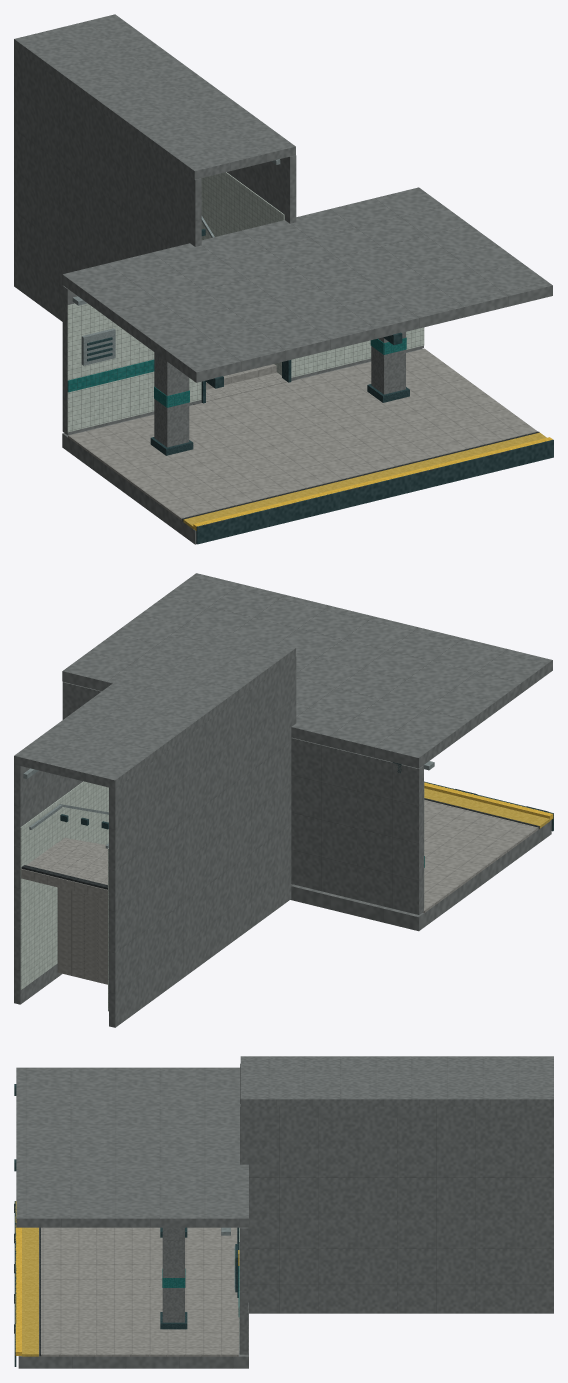
The model's file is PZ_MetroStation_Platform_10m_StairAccess.glb.
3 renders of one model, top to bottom at view 1: azimuth 30°, elevation 25°; view 2: azimuth 150°, elevation 25°; view 3: azimuth 270°, elevation 25°, orthographic. The views are drawn at different scales.
Parts seen in each view (by area): view 1: PZ_STAIRS_10M__StructuralShell__ceiling_slab, PZ_STAIRS_10M__FloorFinish__terrazzo_finish_10m, PZ_STAIRS_10M__StairStructure__stairwell_left_wall, PZ_STAIRS_10M__StairStructure__stairwell_ceiling, PZ_STAIRS_10M__WallFinish__rear_wall_tile_left, PZ_STAIRS_10M__SafetyEdge__edge_skirt, PZ_STAIRS_10M__StairFinishes__stairwell_right_tiles, PZ_STAIRS_10M__SafetyEdge__tactile_strip_10m, PZ_STAIRS_10M__StairStructure__stairwell_right_wall, PZ_STAIRS_10M__Pillars__pillar_A_core, PZ_STAIRS_10M__StructuralShell__slab_10m, PZ_STAIRS_10M__WallFinish__rear_wall_tile_right (+7 smaller); view 2: PZ_STAIRS_10M__StairStructure__stairwell_left_wall, PZ_STAIRS_10M__StructuralShell__ceiling_slab, PZ_STAIRS_10M__StairStructure__stairwell_ceiling, PZ_STAIRS_10M__StructuralShell__rear_wall_left, PZ_STAIRS_10M__StairFinishes__stairwell_right_tiles, PZ_STAIRS_10M__FloorFinish__terrazzo_finish_10m, PZ_STAIRS_10M__StairStructure__single_closed_sawtooth_18rise, PZ_STAIRS_10M__StructuralShell__slab_10m, PZ_STAIRS_10M__StairStructure__stairwell_right_wall, PZ_STAIRS_10M__StairStructure__mezzanine_upper_landing, PZ_STAIRS_10M__SafetyEdge__tactile_strip_10m, PZ_STAIRS_10M__SafetyEdge__edge_nosing (+1 smaller); view 3: PZ_STAIRS_10M__StairStructure__stairwell_right_wall, PZ_STAIRS_10M__StructuralShell__ceiling_slab, PZ_STAIRS_10M__FloorFinish__terrazzo_finish_10m, PZ_STAIRS_10M__StairStructure__stairwell_ceiling, PZ_STAIRS_10M__StructuralShell__slab_10m, PZ_STAIRS_10M__SafetyEdge__tactile_strip_10m, PZ_STAIRS_10M__Pillars__pillar_B_core, PZ_STAIRS_10M__StructuralShell__rear_wall_right, PZ_STAIRS_10M__SafetyEdge__edge_nosing.
Part boxes in pixels (left/top/right/bottom): PZ_STAIRS_10M__StructuralShell__ceiling_slab: left=62, top=187, right=552, bottom=382; PZ_STAIRS_10M__FloorFinish__terrazzo_finish_10m: left=68, top=348, right=537, bottom=520; PZ_STAIRS_10M__StairStructure__stairwell_left_wall: left=14, top=48, right=201, bottom=404; PZ_STAIRS_10M__StairStructure__stairwell_ceiling: left=14, top=14, right=295, bottom=179; PZ_STAIRS_10M__WallFinish__rear_wall_tile_left: left=67, top=303, right=201, bottom=432; PZ_STAIRS_10M__SafetyEdge__edge_skirt: left=196, top=439, right=553, bottom=544; PZ_STAIRS_10M__StairFinishes__stairwell_right_tiles: left=201, top=172, right=284, bottom=375; PZ_STAIRS_10M__SafetyEdge__tactile_strip_10m: left=183, top=432, right=546, bottom=529; PZ_STAIRS_10M__StairStructure__stairwell_right_wall: left=227, top=155, right=296, bottom=380; PZ_STAIRS_10M__Pillars__pillar_A_core: left=154, top=352, right=189, bottom=447; PZ_STAIRS_10M__StructuralShell__slab_10m: left=62, top=349, right=422, bottom=544; PZ_STAIRS_10M__WallFinish__rear_wall_tile_right: left=291, top=327, right=424, bottom=377; PZ_STAIRS_10M__StairStructure__stairwell_left_wall: left=109, top=656, right=296, bottom=1027; PZ_STAIRS_10M__StructuralShell__ceiling_slab: left=62, top=573, right=552, bottom=768; PZ_STAIRS_10M__StairStructure__stairwell_ceiling: left=14, top=623, right=295, bottom=788; PZ_STAIRS_10M__StructuralShell__rear_wall_left: left=291, top=737, right=423, bottom=914; PZ_STAIRS_10M__StairFinishes__stairwell_right_tiles: left=20, top=781, right=108, bottom=989; PZ_STAIRS_10M__FloorFinish__terrazzo_finish_10m: left=423, top=799, right=538, bottom=912; PZ_STAIRS_10M__StairStructure__single_closed_sawtooth_18rise: left=57, top=837, right=108, bottom=984; PZ_STAIRS_10M__StructuralShell__slab_10m: left=290, top=820, right=551, bottom=931; PZ_STAIRS_10M__StairStructure__stairwell_right_wall: left=14, top=764, right=82, bottom=1004; PZ_STAIRS_10M__StairStructure__mezzanine_upper_landing: left=20, top=843, right=108, bottom=899; PZ_STAIRS_10M__SafetyEdge__tactile_strip_10m: left=424, top=788, right=549, bottom=828; PZ_STAIRS_10M__SafetyEdge__edge_nosing: left=424, top=782, right=553, bottom=820; PZ_STAIRS_10M__StairStructure__stairwell_right_wall: left=240, top=1104, right=553, bottom=1313; PZ_STAIRS_10M__StructuralShell__ceiling_slab: left=16, top=1067, right=248, bottom=1227; PZ_STAIRS_10M__FloorFinish__terrazzo_finish_10m: left=41, top=1227, right=238, bottom=1356; PZ_STAIRS_10M__StairStructure__stairwell_ceiling: left=240, top=1056, right=553, bottom=1106; PZ_STAIRS_10M__StructuralShell__slab_10m: left=18, top=1228, right=248, bottom=1368; PZ_STAIRS_10M__SafetyEdge__tactile_strip_10m: left=22, top=1227, right=38, bottom=1356; PZ_STAIRS_10M__Pillars__pillar_B_core: left=162, top=1227, right=184, bottom=1322; PZ_STAIRS_10M__StructuralShell__rear_wall_right: left=240, top=1227, right=248, bottom=1354; PZ_STAIRS_10M__SafetyEdge__edge_nosing: left=15, top=1201, right=21, bottom=1355.
Bounding box in the file's own units: 10 × 6.66 × 15.13.
11 materials, 11 textured.
